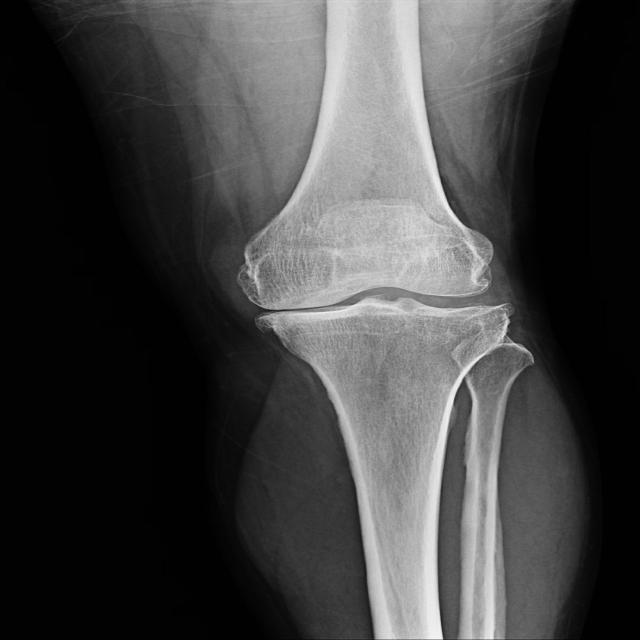osteo: (229, 220, 527, 344)
